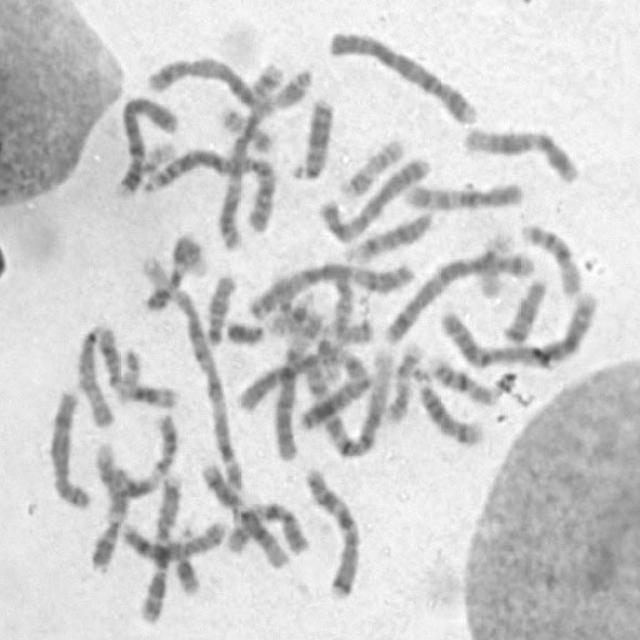A1: (138, 257, 244, 497), (296, 341, 392, 461)
A2: (436, 285, 600, 371), (138, 142, 278, 234)
A3: (247, 257, 418, 320), (214, 95, 279, 253)
B4: (324, 24, 482, 126), (111, 88, 180, 200)
B5: (378, 244, 536, 346), (142, 50, 262, 114)
C10: (223, 497, 310, 558), (399, 176, 524, 212)
C11: (88, 408, 180, 500), (92, 321, 183, 410)
C12: (197, 456, 294, 570), (458, 121, 583, 185)
C6: (231, 344, 375, 414), (270, 304, 326, 464)
C7: (301, 461, 363, 601), (135, 466, 185, 626)
C8: (43, 385, 93, 511), (118, 514, 229, 562)
C9: (86, 446, 133, 576), (140, 230, 204, 314)
D13: (294, 352, 374, 432), (286, 91, 335, 182)
D14: (412, 370, 485, 448), (345, 204, 437, 265)
D15: (71, 319, 118, 429), (293, 300, 371, 347)
E16: (517, 218, 585, 299), (423, 350, 498, 407)
E17: (338, 133, 406, 200), (382, 336, 424, 424)
E18: (498, 273, 550, 346), (201, 268, 239, 347)
F19: (472, 231, 516, 299), (267, 64, 317, 115)
F20: (216, 101, 278, 155), (240, 60, 285, 105)
G21: (265, 286, 316, 338), (170, 536, 202, 596)
G22: (114, 344, 142, 406), (138, 136, 178, 177)
X: (316, 149, 436, 245)
Y: (222, 314, 266, 347)
